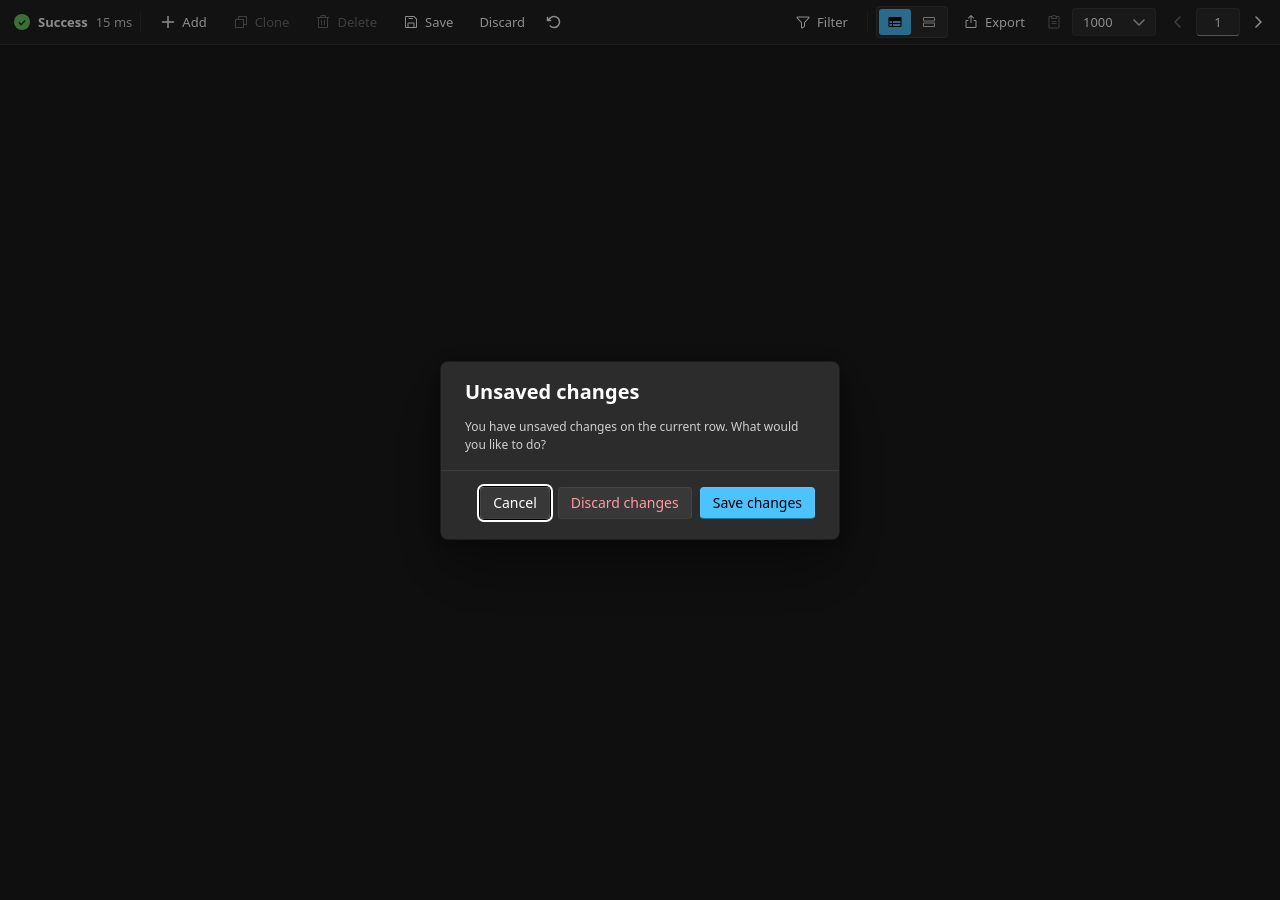
TableDataTab › handleDiscardNavigation closes unsaved dialog
The image size is (1280, 900).
Click discard in the dialog
Click the button with test id "btn-discard-changes" at (625,502), box [558,486,692,518]
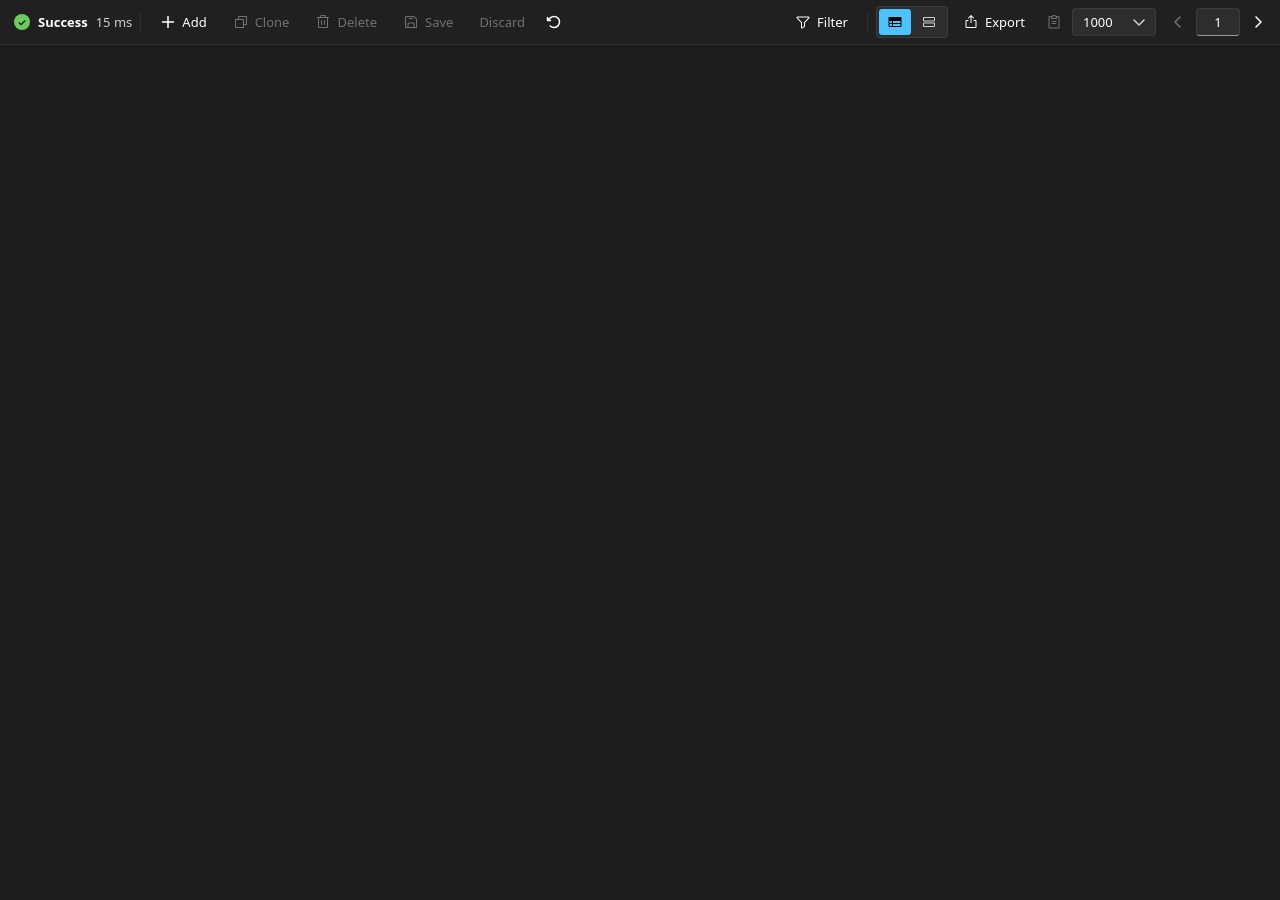
Expected: the dialog with test id "unsaved-changes-dialog" is gone
